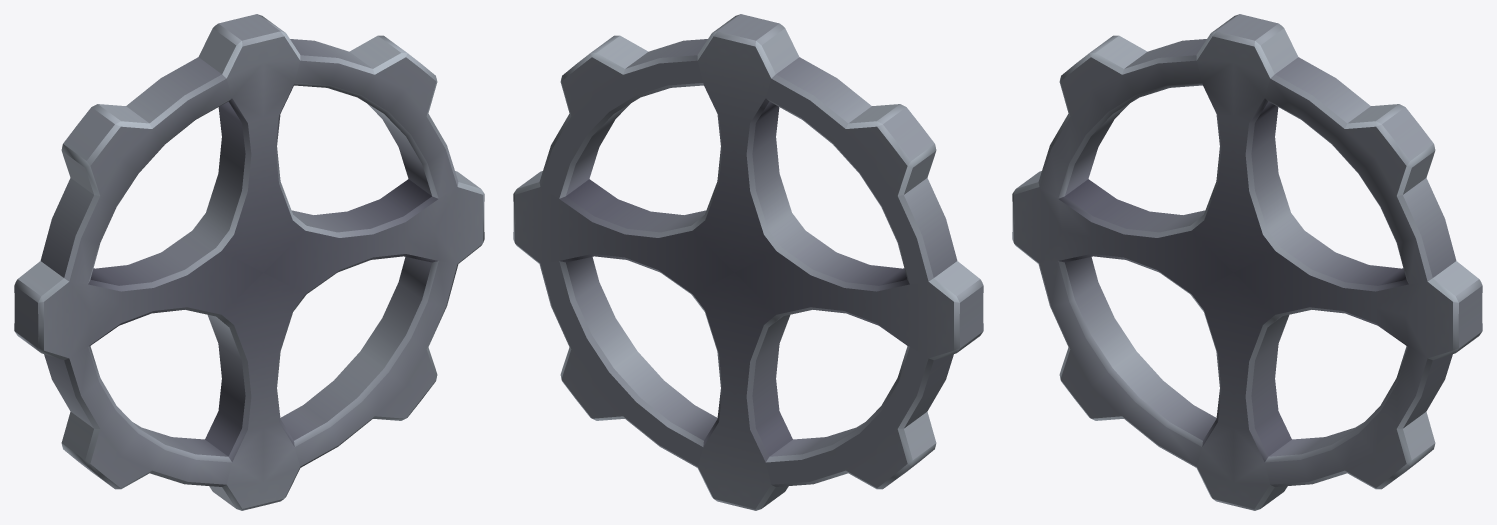
File: elf_cog_big.fbx
3 renders of one model, left to right at view 1: azimuth 30°, elevation 25°; view 2: azimuth 150°, elevation 25°; view 3: azimuth 330°, elevation 25°, orthographic.
Parts seen in each view (by area): view 1: elf_cog_big; view 2: elf_cog_big; view 3: elf_cog_big.
Part boxes in pixels (x1,y1,x2,y2): elf_cog_big: (14, 14, 484, 510); elf_cog_big: (513, 14, 983, 510); elf_cog_big: (1012, 14, 1482, 510).
Size of the model in its own units: 5.03 by 5.06 by 0.5445.
